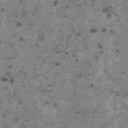oxide scale of temperature system: (2, 0, 128, 108), (0, 56, 16, 101), (53, 0, 70, 8), (14, 115, 29, 123)
